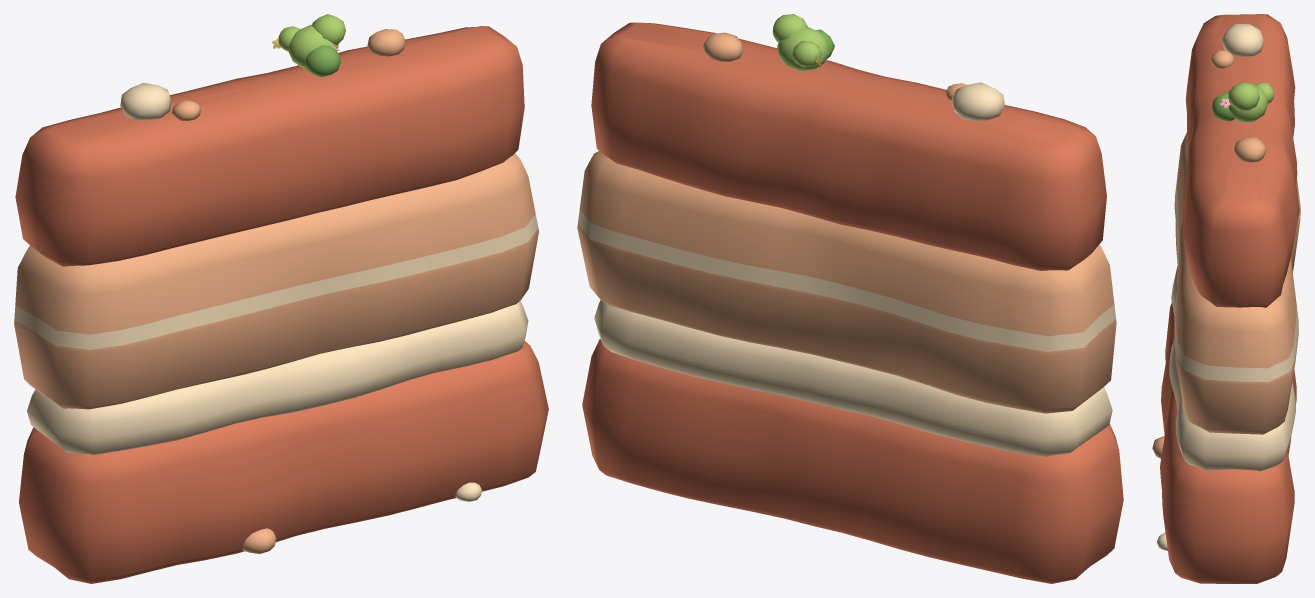
Rendered from prop_canyon_wall.glb.
The picture shows the model from 3 angles, left to right: view 1: azimuth 30°, elevation 25°; view 2: azimuth 150°, elevation 25°; view 3: azimuth 270°, elevation 25°; orthographic projection. The views are drawn at different scales.
Visible parts, largest first — view 1: prop_canyon_wall; view 2: prop_canyon_wall; view 3: prop_canyon_wall.
Part boxes in pixels (bbox=[...]): prop_canyon_wall: bbox=[14, 14, 548, 583]; prop_canyon_wall: bbox=[577, 14, 1123, 583]; prop_canyon_wall: bbox=[1152, 14, 1300, 583].
Size of the model in its own units: 4.25 by 3.89 by 1.24.
